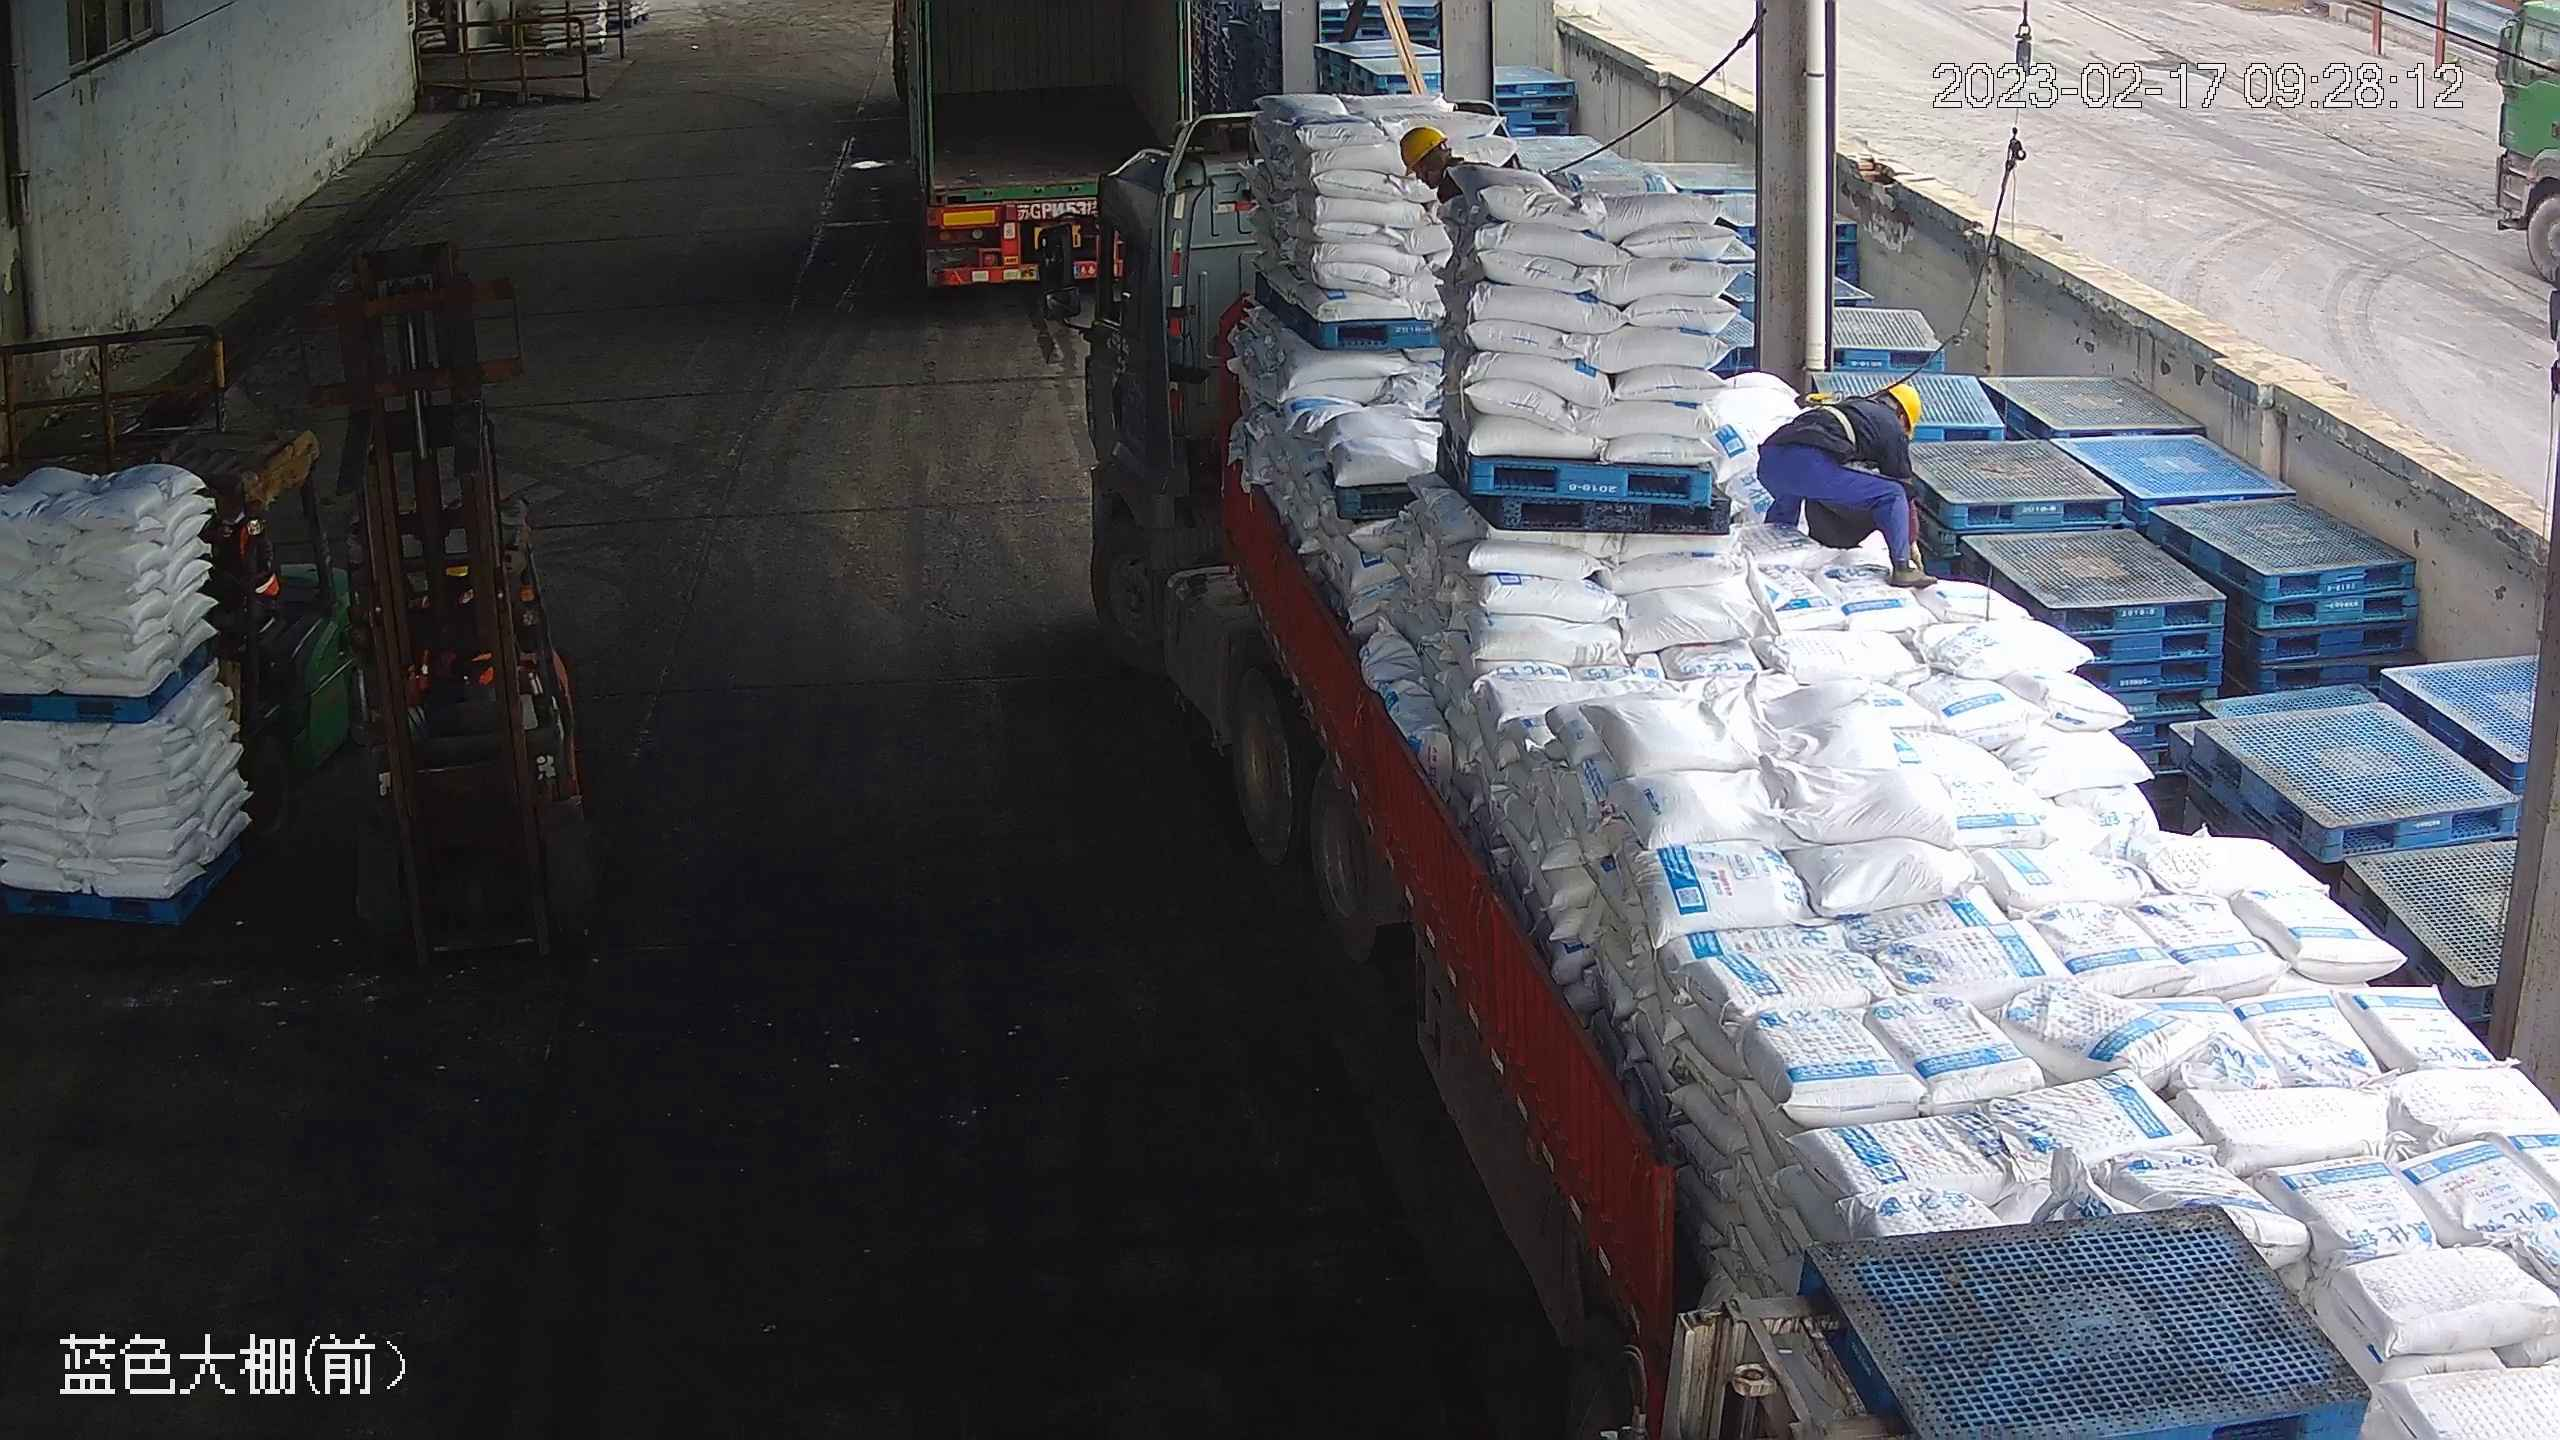belt: (1792, 384, 1875, 459)
head: (1819, 380, 1925, 459), (1396, 124, 1479, 204)
helmet: (1881, 380, 1924, 439), (1397, 124, 1450, 170)
people: (1751, 379, 1931, 579)
truck: (1038, 93, 2547, 1440), (884, 0, 1208, 307)
